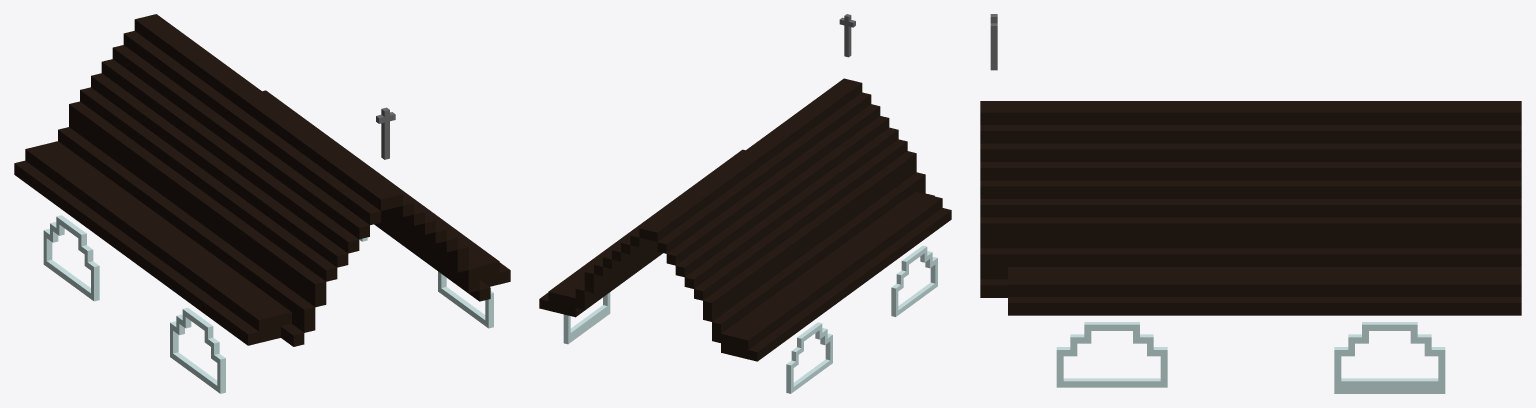
Rendered from Disciplina metallo.obj.
3 renders of one model, left to right at view 1: azimuth 30°, elevation 25°; view 2: azimuth 150°, elevation 25°; view 3: azimuth 270°, elevation 25°, orthographic. The views are drawn at different scales.
Size of the model in its own units: 10 by 9.7 by 15.6.
